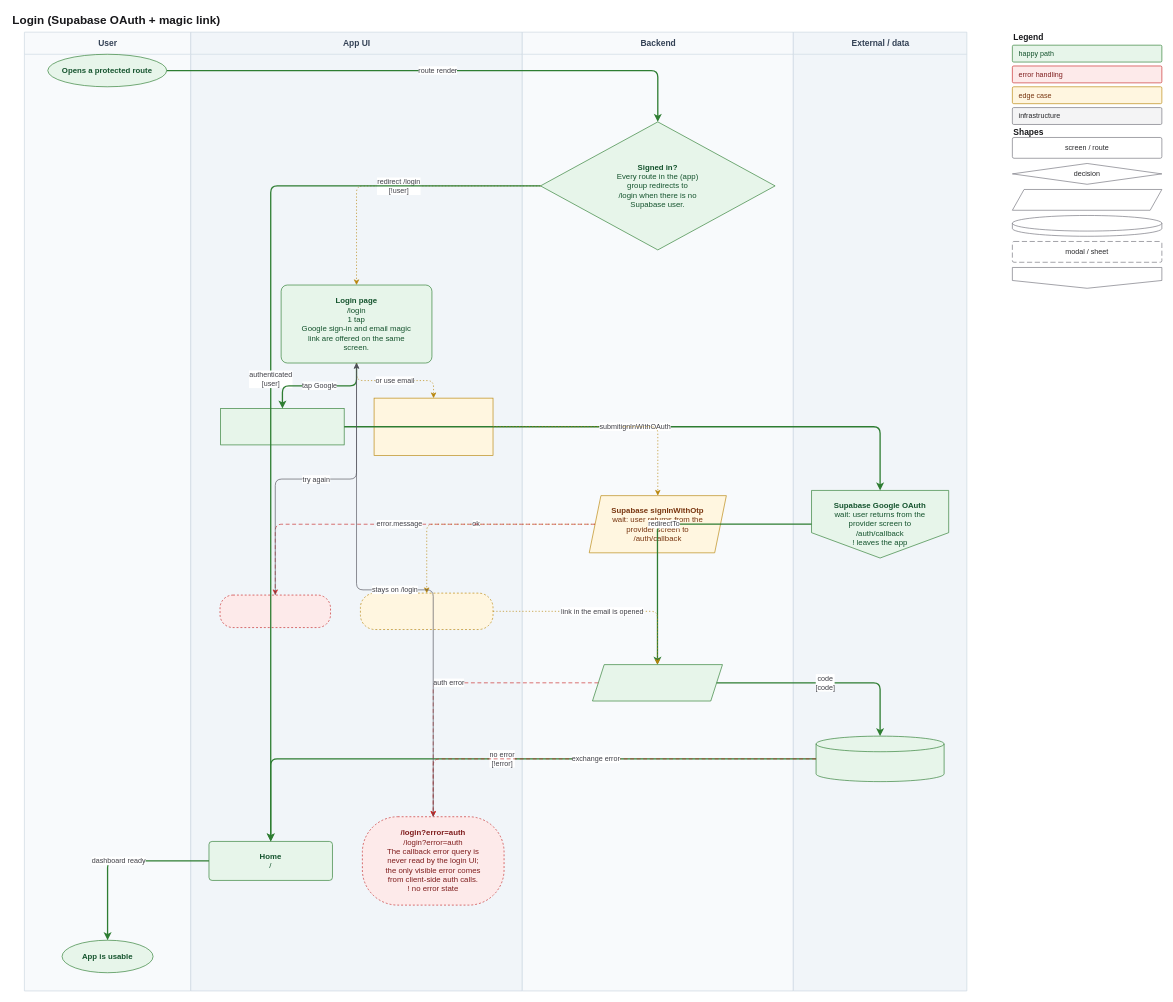
This 1173x1002 diagram has some shape labels left out. Each missing label, with the centre of its shape:
"API call" belongs at pixel 1087 199.
"data store" belongs at pixel 1087 225.
"GET /auth/callback /auth/callback" belongs at pixel 657 682.
"leaves the app" belongs at pixel 1087 277.
"Sign-in error shown" belongs at pixel 275 611.
"Sign-in link sent (waiting for email)" belongs at pixel 426 611.
"Supabase session exchange" belongs at pixel 879 758.
"Tap: email me a sign-in link 1 tap 1 required fields" belongs at pixel 433 426.
"Tap: sign in with Google 1 tap" belongs at pixel 282 426.
